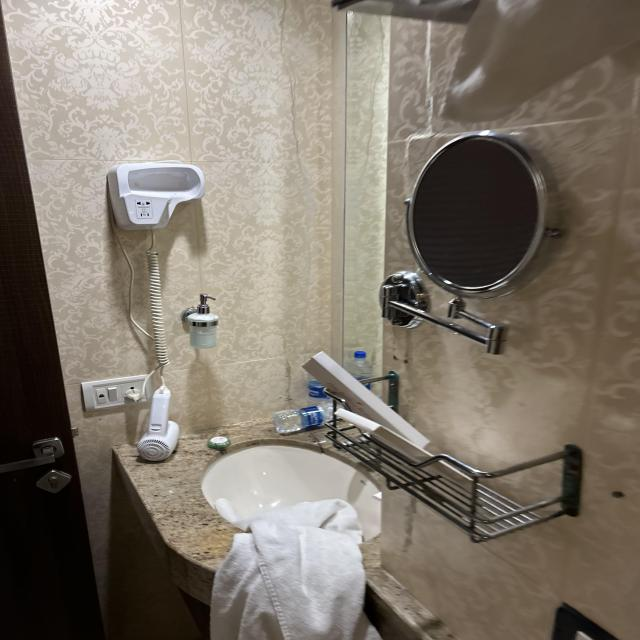mess: (246, 335, 629, 542), (99, 385, 378, 640), (262, 0, 640, 119)
